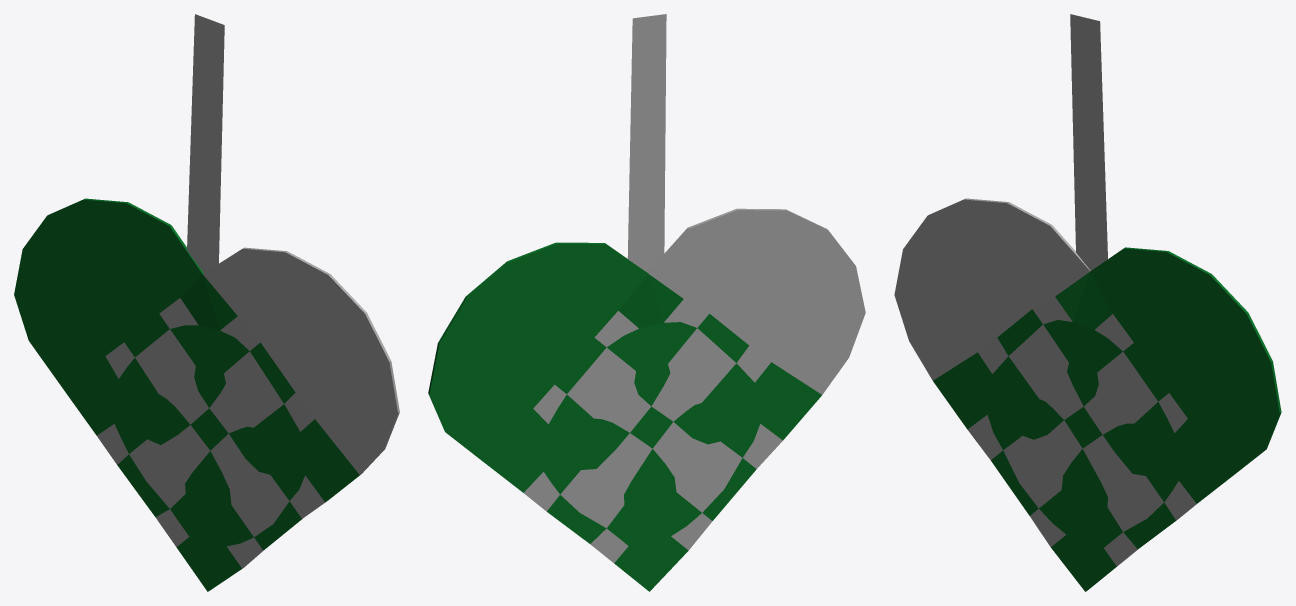
The model's file is heart22.glb.
The picture shows the model from 3 angles, left to right: view 1: azimuth 90°, elevation 25°; view 2: azimuth 150°, elevation 25°; view 3: azimuth 270°, elevation 25°; orthographic projection.
Visible parts, largest first — view 1: heart22; view 2: heart22; view 3: heart22.
Part boxes in pixels (x1,y1,x2,y2): heart22: [14, 14, 399, 591]; heart22: [428, 14, 865, 591]; heart22: [894, 14, 1281, 591].
Size of the model in its own units: 0.0811 by 0.1817 by 0.1109.
